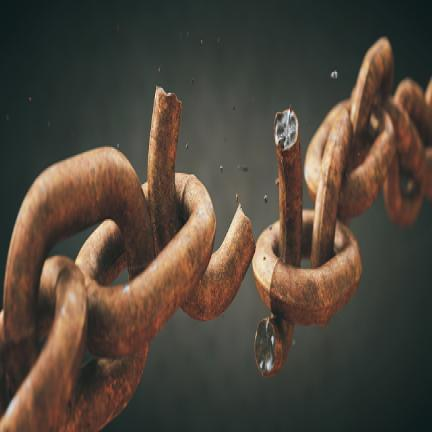karat: (0, 38, 431, 429)
